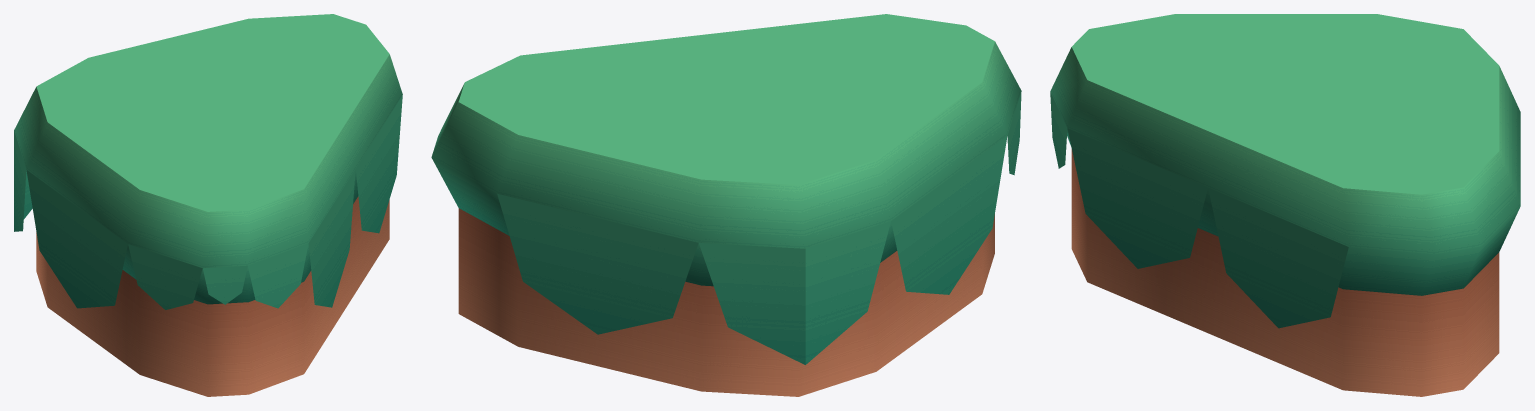
The model's file is block-grass-corner-overhang-low.glb.
3 renders of one model, left to right at view 1: azimuth 30°, elevation 25°; view 2: azimuth 150°, elevation 25°; view 3: azimuth 270°, elevation 25°, orthographic. The views are drawn at different scales.
Visible parts, largest first — view 1: block-grass-corner-overhang-low; view 2: block-grass-corner-overhang-low; view 3: block-grass-corner-overhang-low.
Part boxes in pixels (<box>): block-grass-corner-overhang-low: <box>14,14,402,396</box>; block-grass-corner-overhang-low: <box>431,14,1021,396</box>; block-grass-corner-overhang-low: <box>1050,14,1520,396</box>.
Bounding box in the file's own units: 1.05 × 0.5 × 1.05.
1 material, 1 textured.
